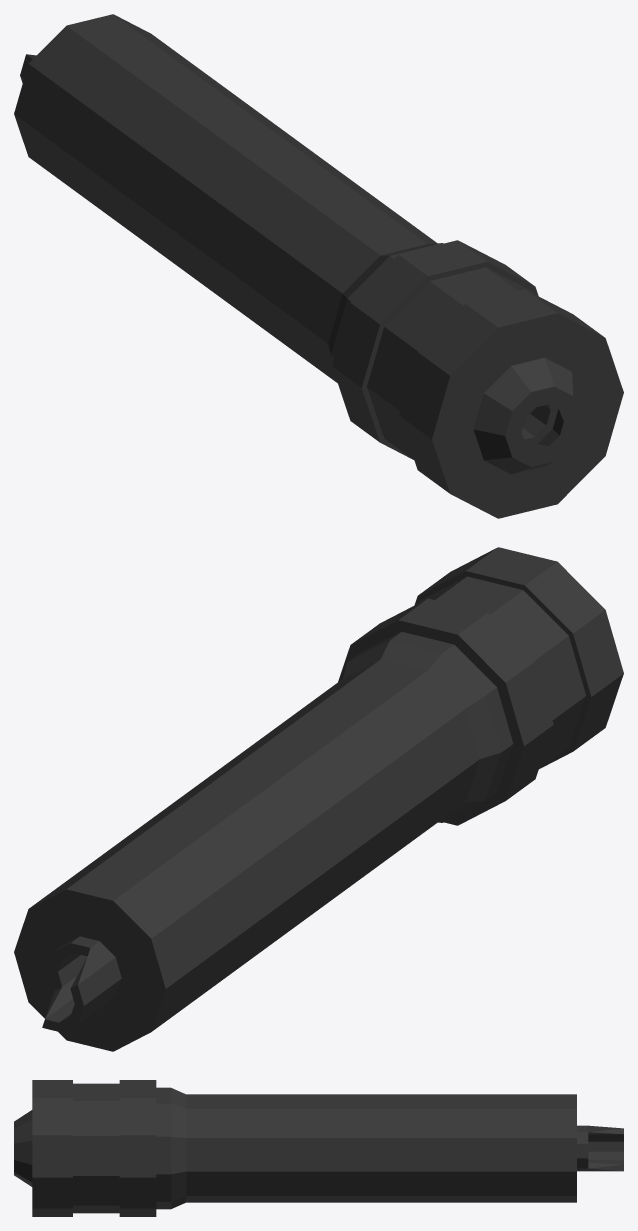
The model's file is suppressor_01.fbx.
3 renders of one model, top to bottom at view 1: azimuth 30°, elevation 25°; view 2: azimuth 150°, elevation 25°; view 3: azimuth 270°, elevation 25°, orthographic. The views are drawn at different scales.
Parts seen in each view (by area): view 1: Suppressor_01; view 2: Suppressor_01; view 3: Suppressor_01.
Part boxes in pixels (x1,y1,x2,y2): Suppressor_01: (14,14,623,518); Suppressor_01: (14,547,623,1051); Suppressor_01: (14,1080,623,1216).
Bounding box in the file's own units: 7.31 × 6.96 × 32.37.
Materials: 1 (1 with a texture image).
